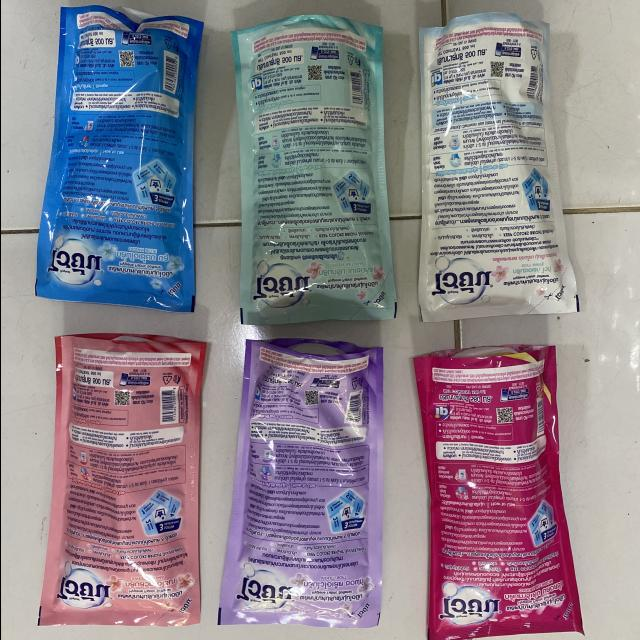plastik: (35, 5, 203, 311), (231, 16, 395, 325), (413, 345, 583, 640), (417, 13, 579, 322), (38, 334, 206, 626), (218, 338, 381, 627)
